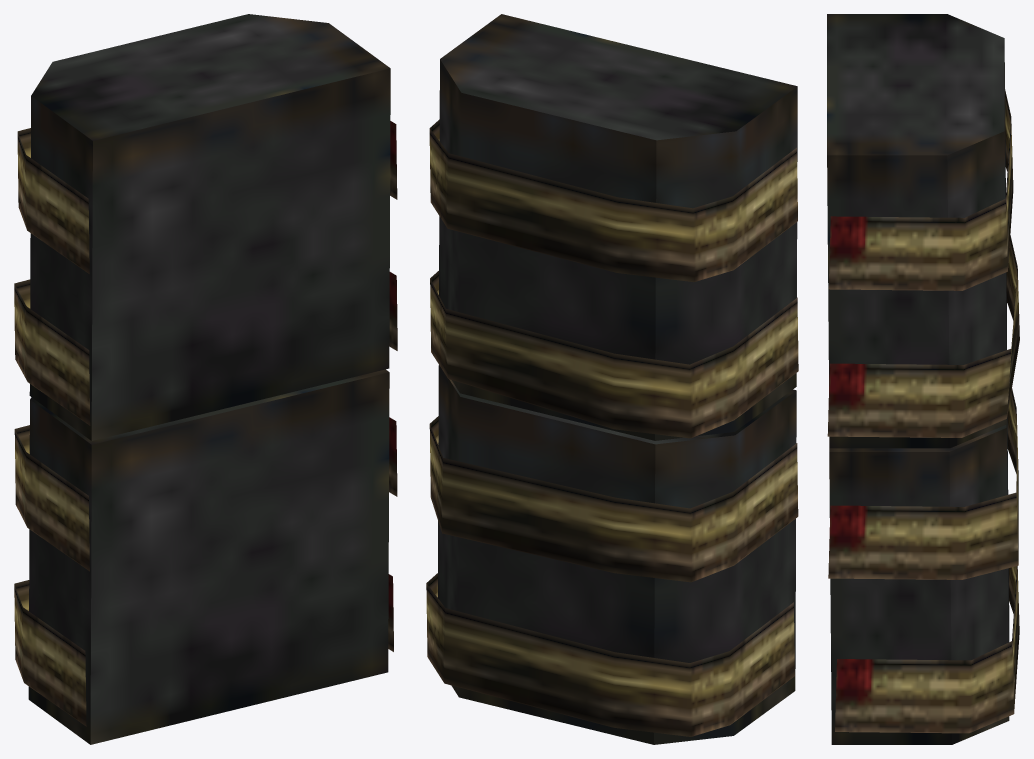
Rendered from metal_cargo.dae.
3 renders of one model, left to right at view 1: azimuth 30°, elevation 25°; view 2: azimuth 150°, elevation 25°; view 3: azimuth 270°, elevation 25°, orthographic. The views are drawn at different scales.
Parts seen in each view (by area): view 1: WoodMetal; view 2: WoodMetal; view 3: WoodMetal.
Boxes of the visible parts, x1,y1,x2,y2 form: WoodMetal: (14, 14, 397, 744); WoodMetal: (426, 14, 798, 744); WoodMetal: (827, 14, 1019, 744).
Size of the model in its own units: 0.8193 by 0.458 by 1.54.
